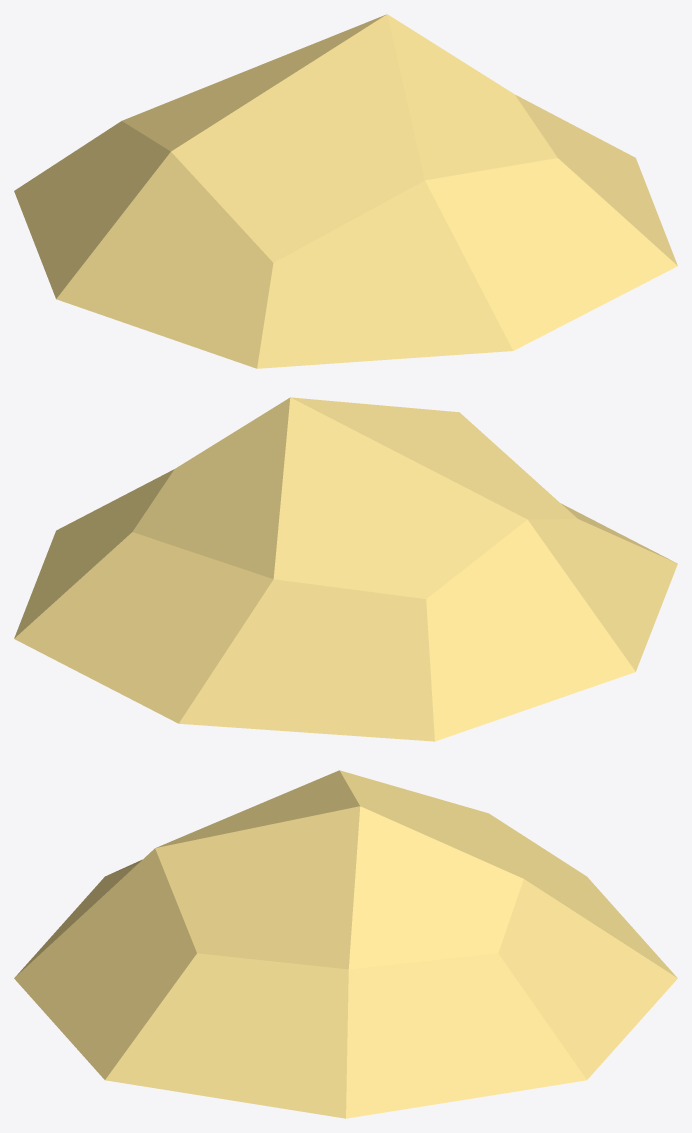
Rendered from Dough.fbx.
The picture shows the model from 3 angles, top to bottom: view 1: azimuth 30°, elevation 25°; view 2: azimuth 150°, elevation 25°; view 3: azimuth 270°, elevation 25°; orthographic projection.
Parts seen in each view (by area): view 1: Cube; view 2: Cube; view 3: Cube.
Boxes of the visible parts, <box> form: Cube: <box>14,14,677,368</box>; Cube: <box>14,397,677,741</box>; Cube: <box>14,770,677,1118</box>.
Size of the model in its own units: 26.71 by 26.71 by 8.69.
